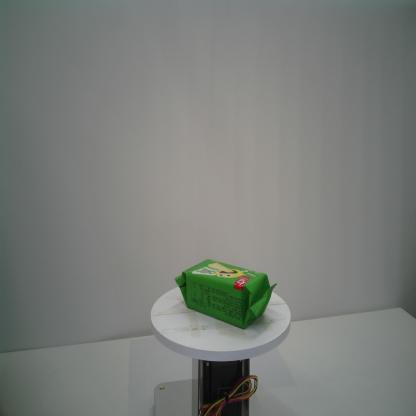Dessert: (173, 259, 277, 329)
